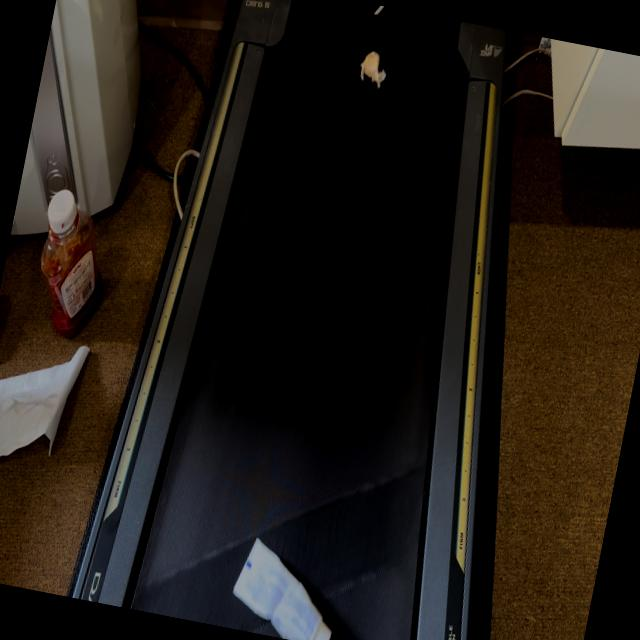Trash: (225, 535, 347, 640), (358, 50, 390, 91)
